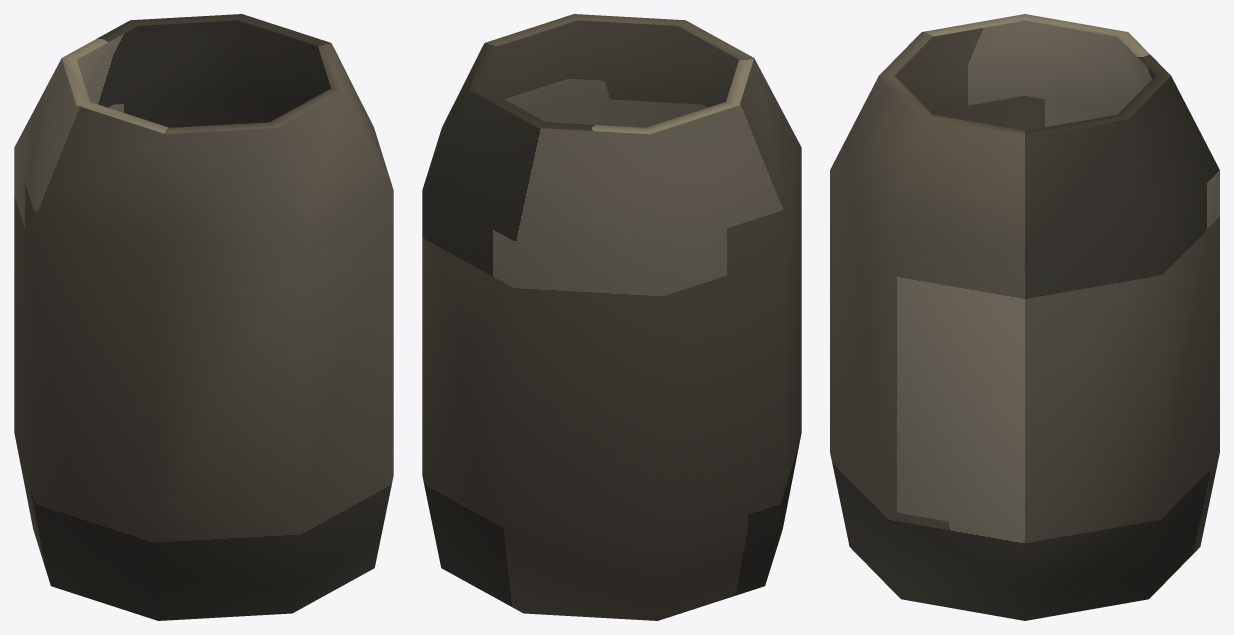
Rendered from prop.vessel.glb.
3 renders of one model, left to right at view 1: azimuth 30°, elevation 25°; view 2: azimuth 150°, elevation 25°; view 3: azimuth 270°, elevation 25°, orthographic.
Visible parts, largest first — view 1: kit_vessel; view 2: kit_vessel; view 3: kit_vessel.
Part boxes in pixels (bbox=[...]): kit_vessel: bbox=[14, 14, 393, 620]; kit_vessel: bbox=[422, 14, 801, 620]; kit_vessel: bbox=[830, 14, 1219, 620].
Size of the model in its own units: 0.09 by 0.12 by 0.09.
1 material, 1 textured.
